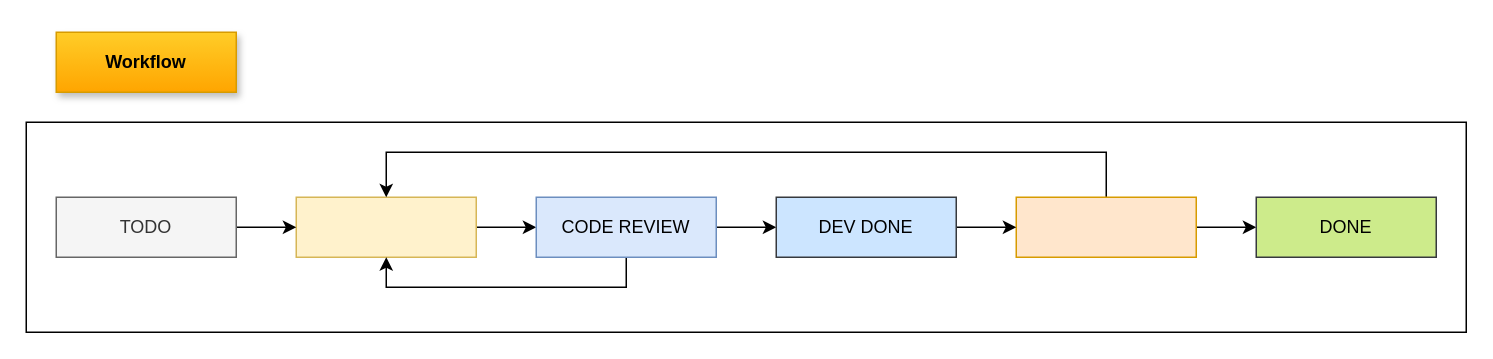
Image size: 1493x359. Some labels were removed from this diagram. The centre of each missing label's shape, as x and y in pixels:
"IN PROGRESS" goes at (x=385, y=226).
"TESTING" goes at (x=1105, y=226).
